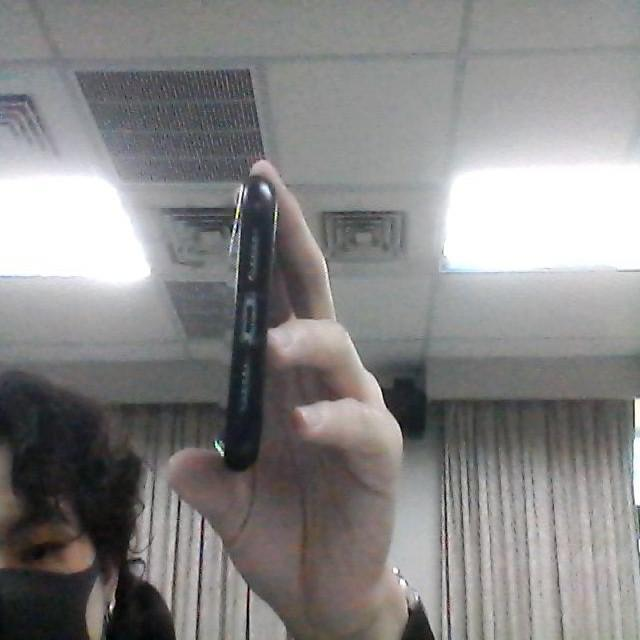Phone: (218, 172, 282, 479)
